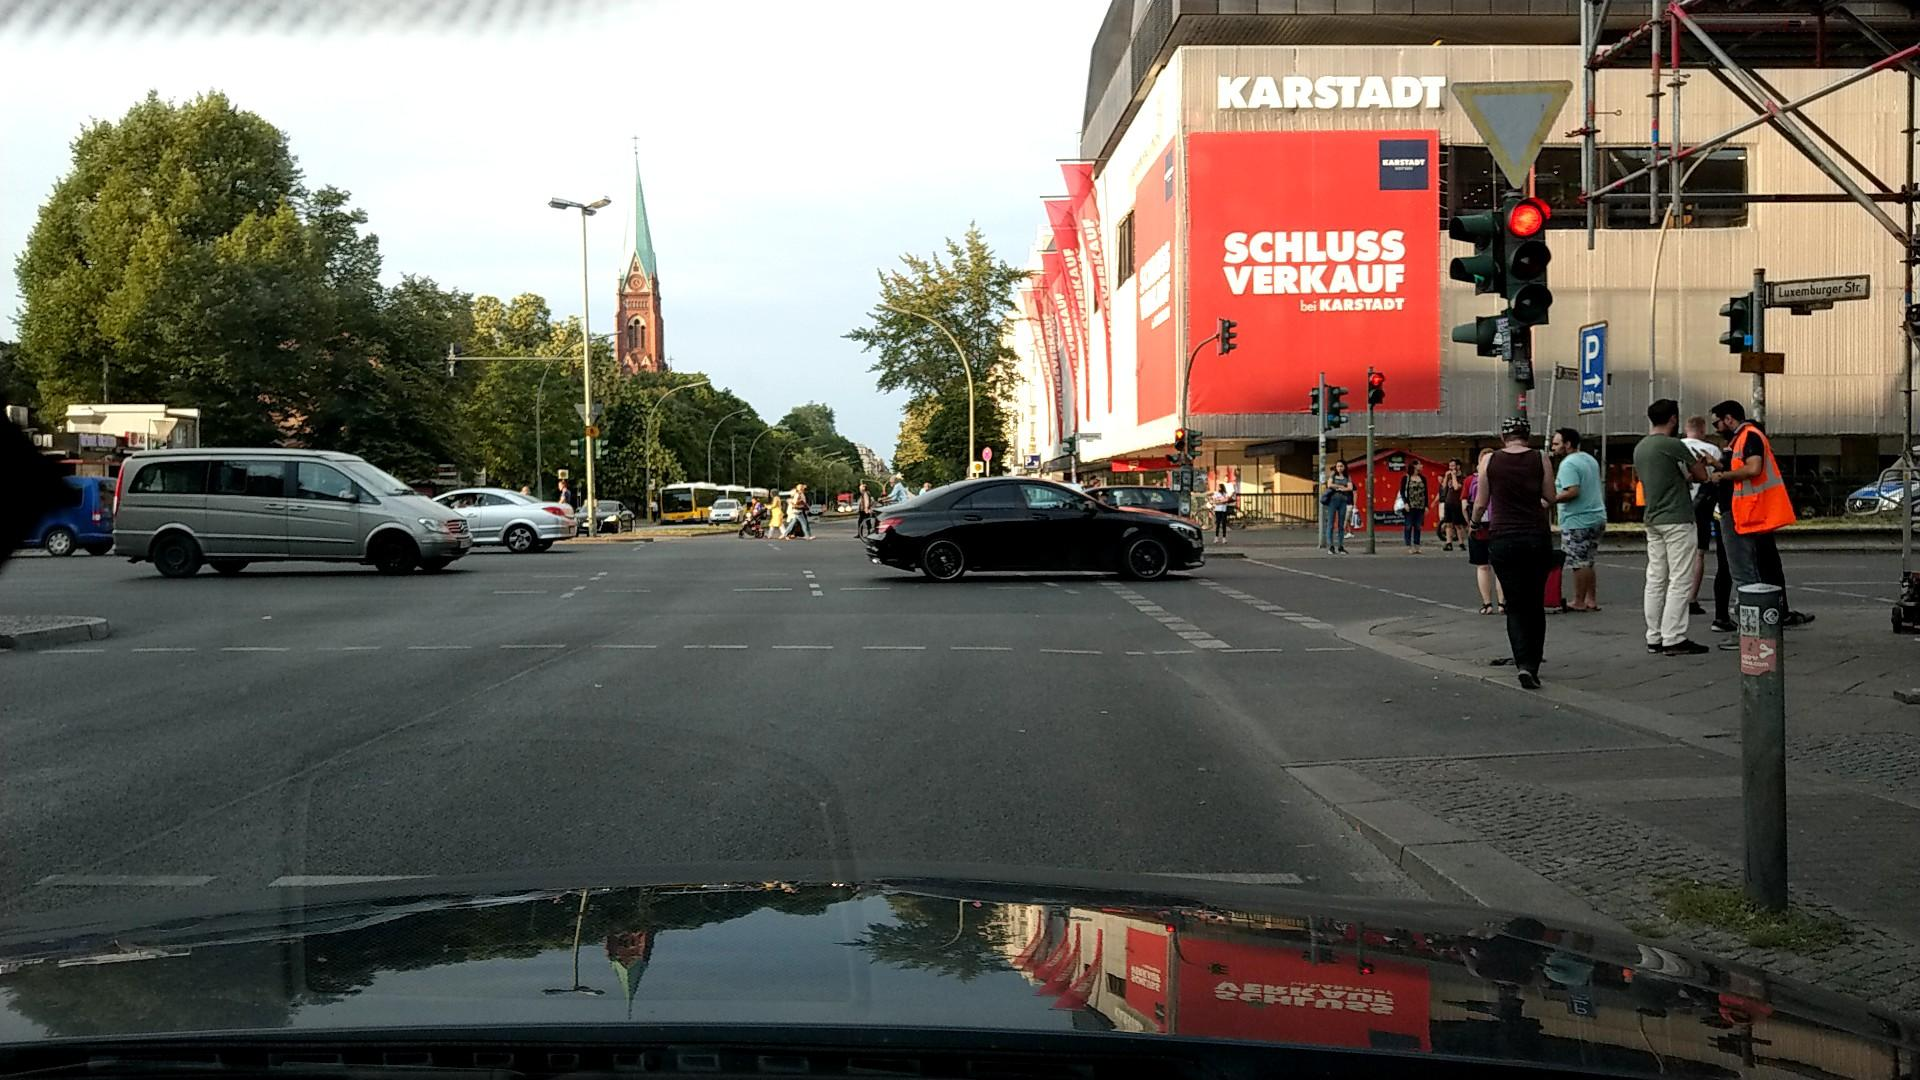Human face: (1710, 403, 1744, 439), (1648, 402, 1680, 438), (1550, 429, 1576, 459), (1447, 459, 1461, 473), (1411, 460, 1424, 473), (1335, 461, 1345, 474)
